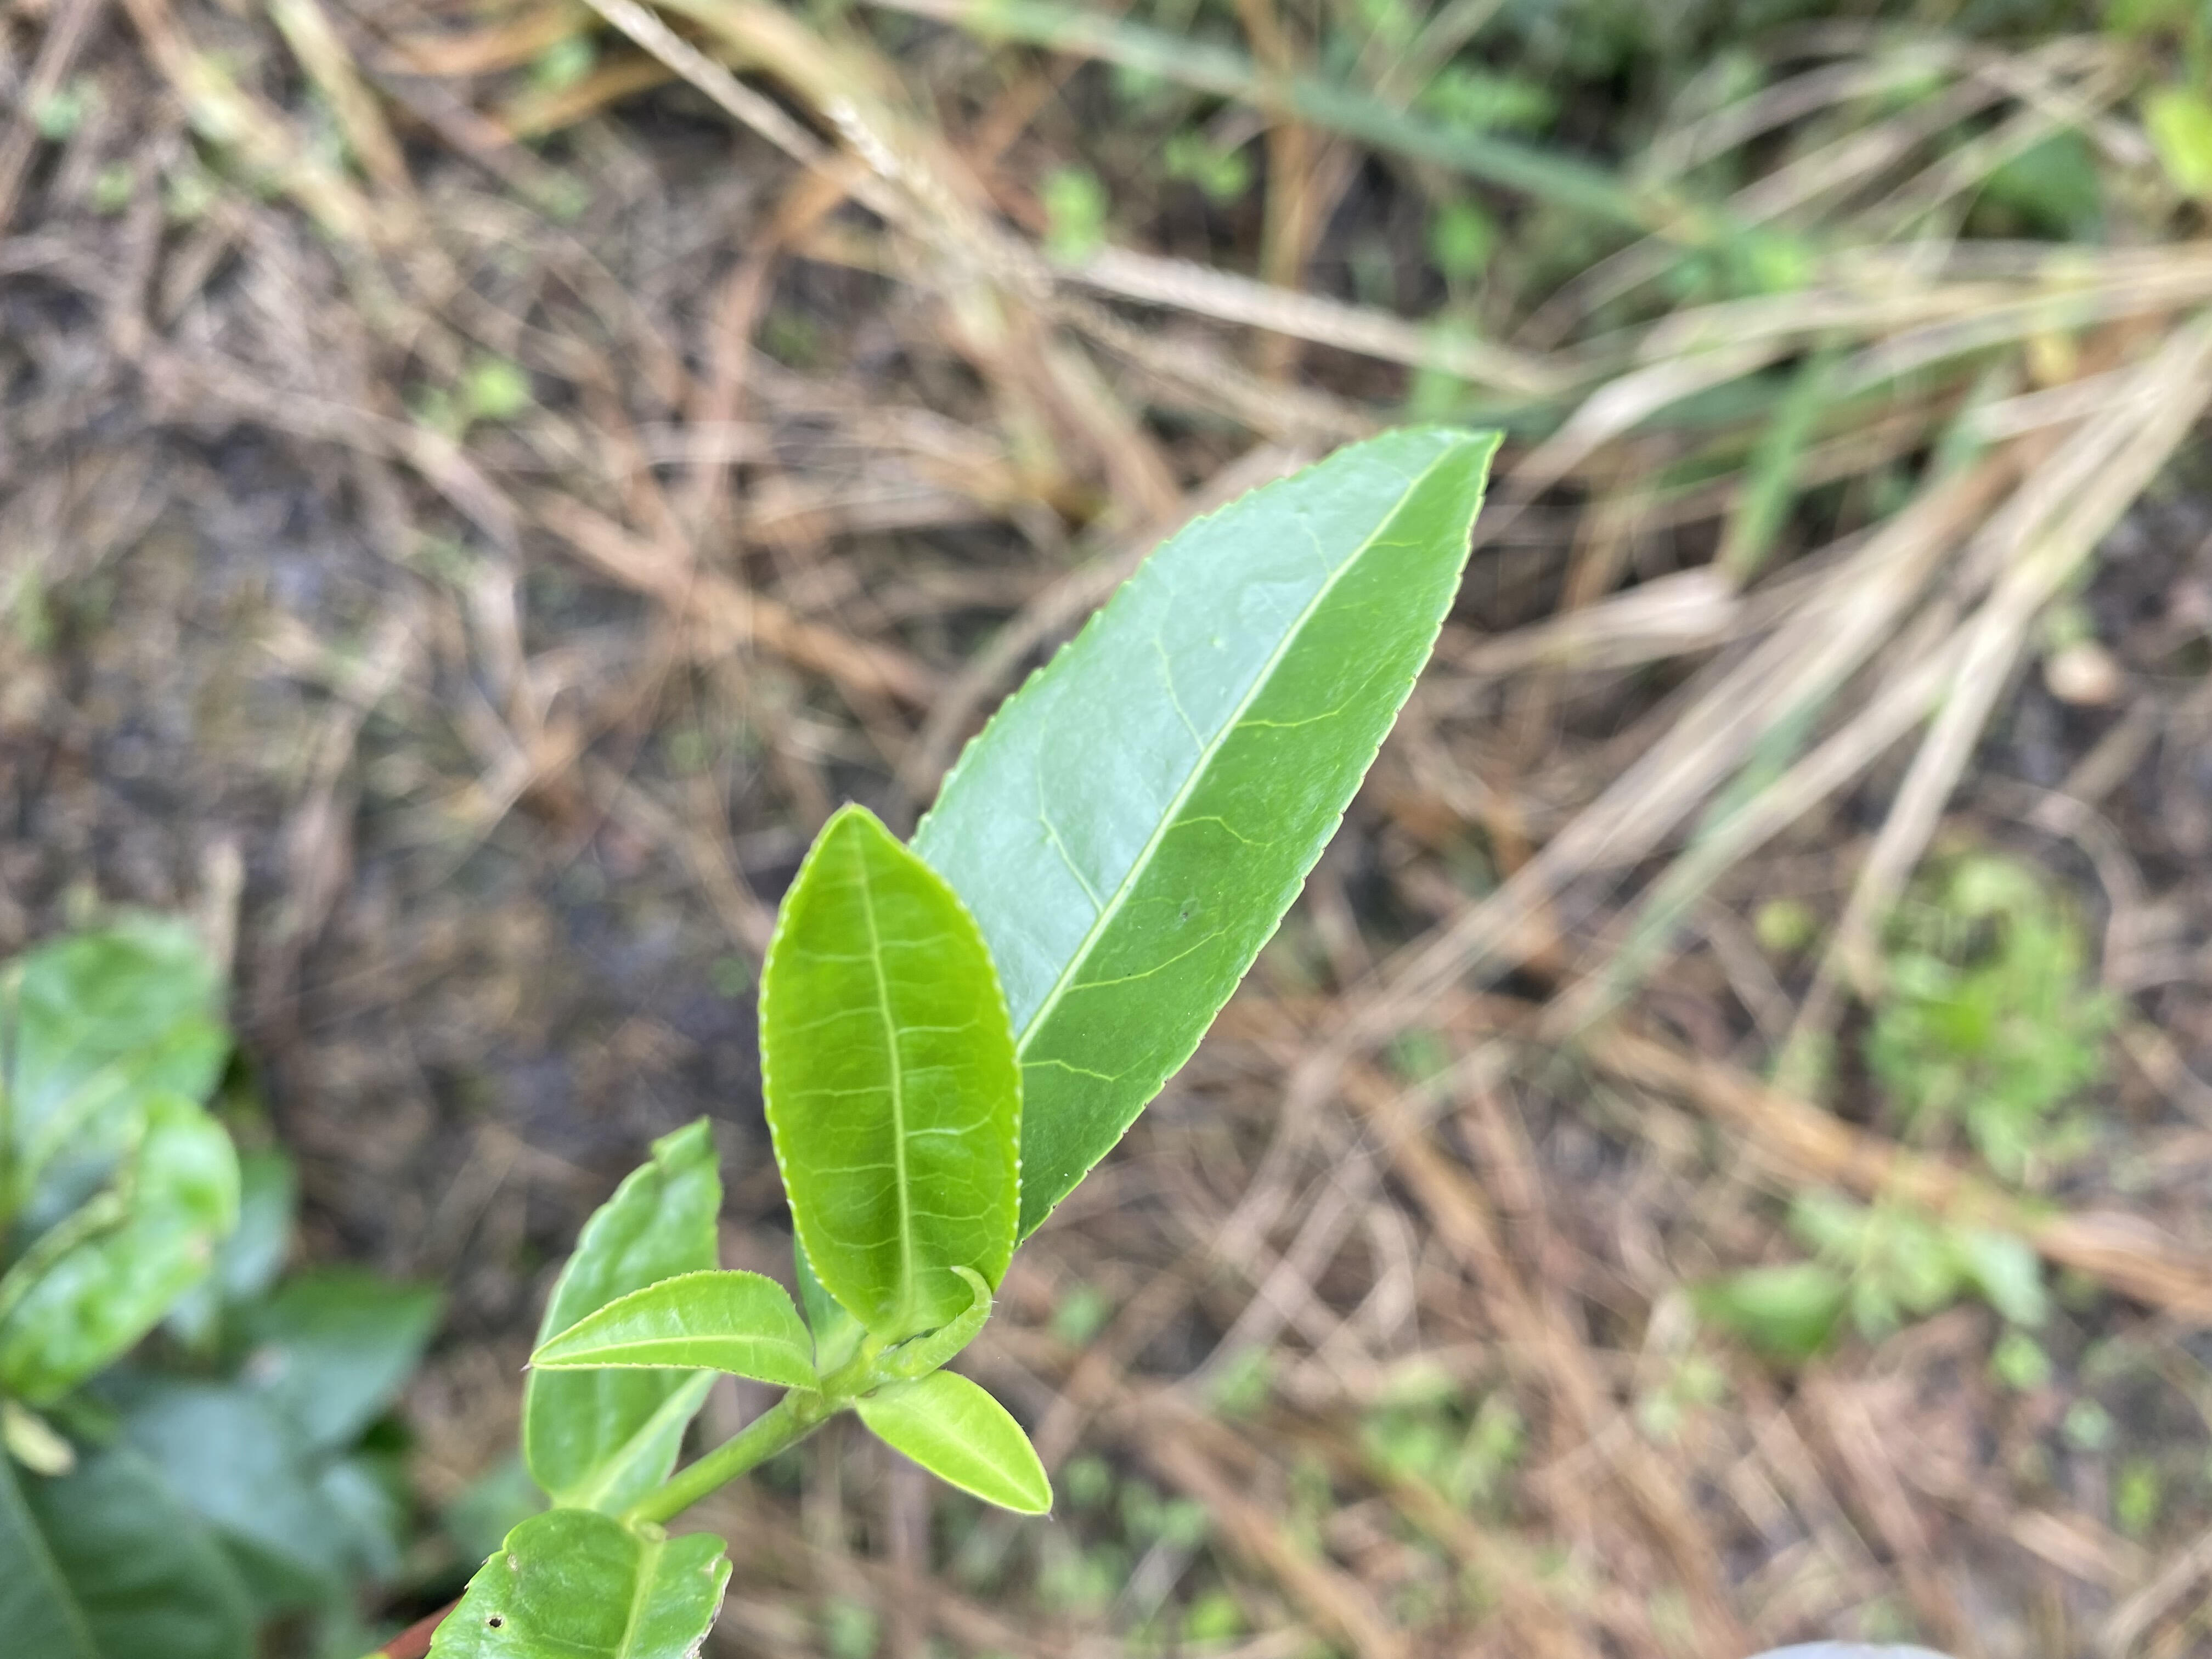healthy: (906, 422, 1503, 1249), (752, 802, 1024, 1338), (526, 1269, 822, 1405), (859, 1371, 1057, 1516)
